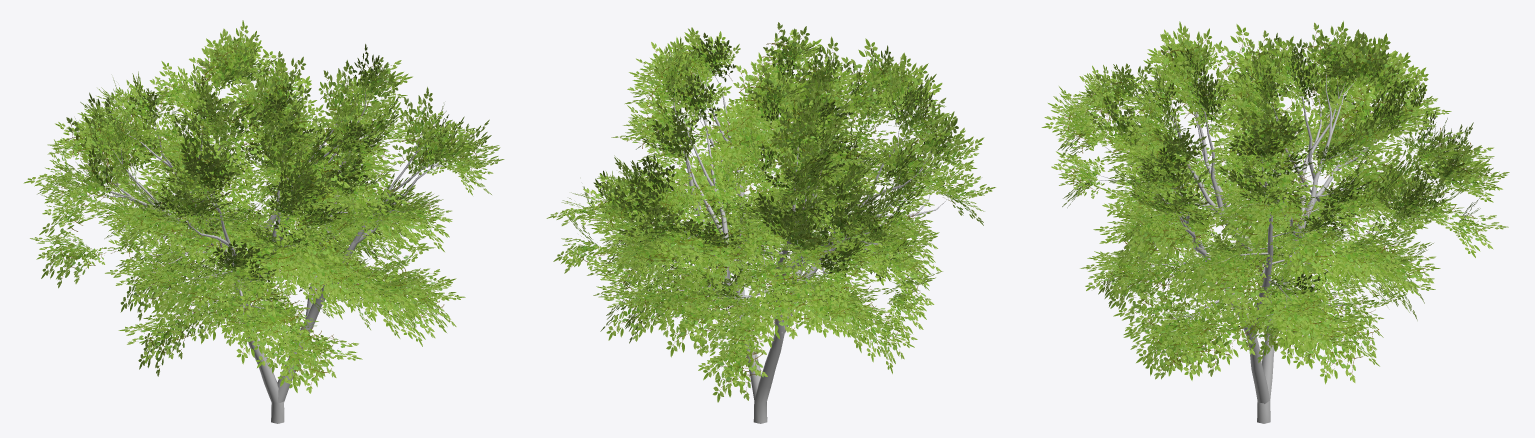
Rendered from tree.fbx.
3 renders of one model, left to right at view 1: azimuth 30°, elevation 25°; view 2: azimuth 150°, elevation 25°; view 3: azimuth 270°, elevation 25°, orthographic.
Visible parts, largest first — view 1: leaves, tree; view 2: leaves, tree; view 3: leaves, tree.
Boxes of the visible parts, x1,y1,x2,y2 form: leaves: [23, 20, 504, 393]; tree: [76, 86, 452, 423]; leaves: [546, 22, 995, 402]; tree: [643, 68, 951, 423]; leaves: [1041, 21, 1509, 384]; tree: [1097, 66, 1402, 423].
Bounding box in the file's own units: 1028 × 909 × 1099.
